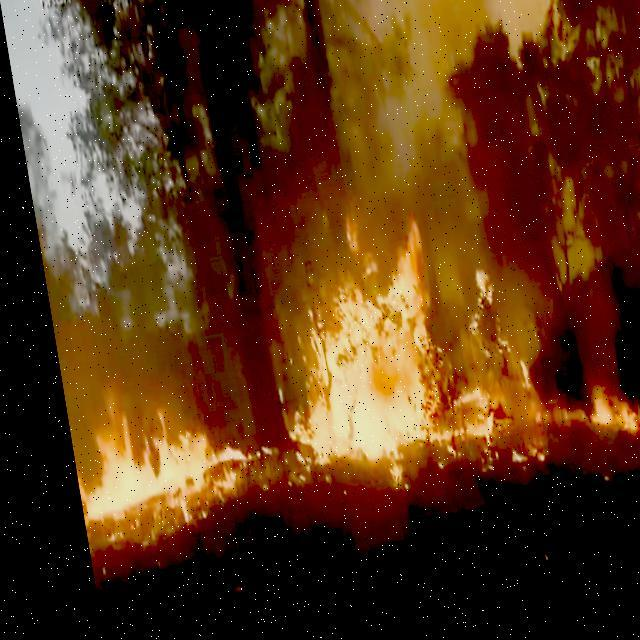Fire: (234, 186, 540, 522), (51, 357, 243, 547), (564, 371, 639, 502)
